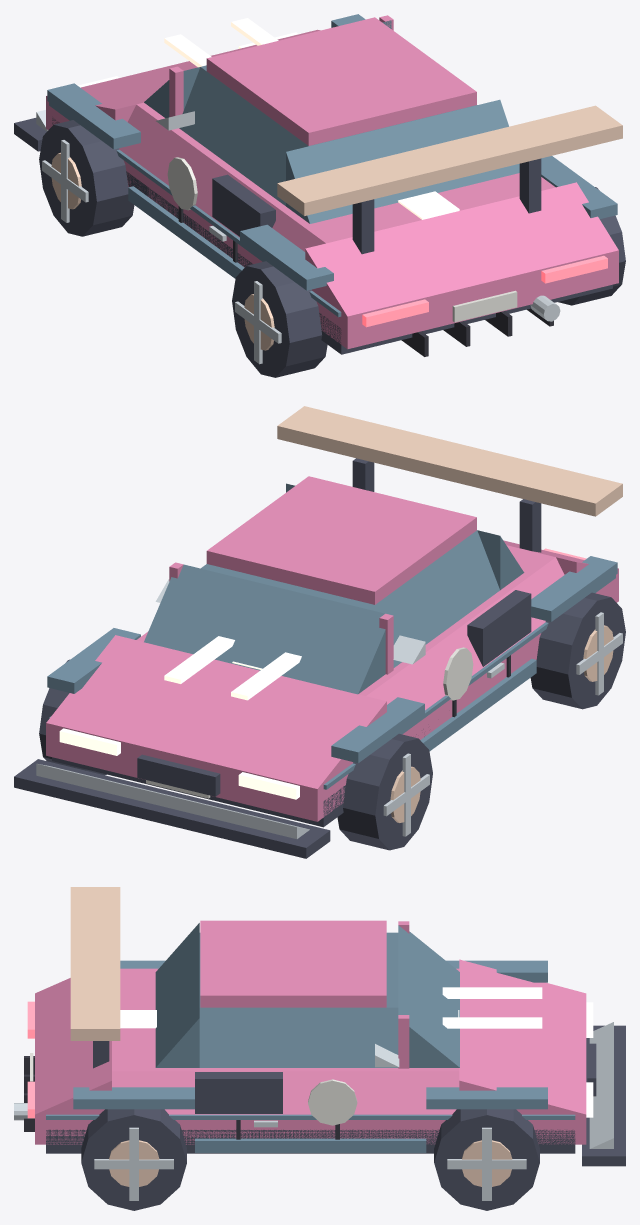
Rendered from oversteer_orbit.glb.
The picture shows the model from 3 angles, top to bottom: view 1: azimuth 30°, elevation 25°; view 2: azimuth 150°, elevation 25°; view 3: azimuth 270°, elevation 25°; orthographic projection. The views are drawn at different scales.
Visible parts, largest first — view 1: Tail.088, Roof.288, RearWing.051, Body.288, RearWindow.188, CabinSideL.085, Wheel_RL.248, Wheel_FL.248, ShoulderL.085, BodyUpper.085, Nose.085, Sill.284 (+26 smaller); view 2: Nose.085, Roof.288, Windshield.188, RearWing.051, Body.288, Splitter.055, CabinSideL.085, Wheel_FL.248, Wheel_RL.248, ShoulderL.085, Bumper.284, AirIntake-1.051 (+21 smaller); view 3: Roof.288, Nose.085, CabinSideR.085, RearWing.051, ShoulderR.085, Body.288, Windshield.188, Tail.088, Wheel_RR.248, Wheel_FR.248, RearWindow.188, BodyUpper.085 (+23 smaller).
Part boxes in pixels (left/top/right/bottom): Tail.088: left=305, top=182, right=618, bottom=316; Roof.288: left=206, top=17, right=476, bottom=145; RearWing.051: left=277, top=105, right=622, bottom=215; Body.288: left=46, top=96, right=618, bottom=349; RearWindow.188: left=286, top=99, right=519, bottom=223; CabinSideL.085: left=179, top=67, right=308, bottom=205; Wheel_RL.248: left=232, top=261, right=327, bottom=377; Wheel_FL.248: left=39, top=120, right=134, bottom=236; ShoulderL.085: left=119, top=105, right=325, bottom=251; BodyUpper.085: left=136, top=102, right=555, bottom=243; Nose.085: left=46, top=29, right=320, bottom=121; Sill.284: left=52, top=118, right=612, bottom=354; Nose.085: left=46, top=635, right=386, bottom=788; Roof.288: left=206, top=476, right=476, bottom=604; Windshield.188: left=144, top=564, right=385, bottom=694; RearWing.051: left=277, top=406, right=622, bottom=516; Body.288: left=46, top=569, right=618, bottom=821; Splitter.055: left=14, top=759, right=330, bottom=858; CabinSideL.085: left=369, top=530, right=499, bottom=667; Wheel_FL.248: left=337, top=733, right=432, bottom=850; Wheel_RL.248: left=530, top=592, right=625, bottom=709; ShoulderL.085: left=366, top=557, right=564, bottom=710; Bumper.284: left=36, top=763, right=309, bottom=838; AirIntake-1.051: left=467, top=590, right=531, bottom=666; Roof.288: left=200, top=920, right=386, bottom=1007; Nose.085: left=459, top=959, right=586, bottom=1114; CabinSideR.085: left=199, top=1007, right=398, bottom=1067; RearWing.051: left=70, top=887, right=120, bottom=1040; ShoulderR.085: left=112, top=1071, right=459, bottom=1114; Body.288: left=35, top=1114, right=586, bottom=1144; Windshield.188: left=398, top=925, right=459, bottom=1067; Tail.088: left=35, top=978, right=111, bottom=1114; Wheel_RR.248: left=81, top=1109, right=186, bottom=1210; Wheel_FR.248: left=434, top=1109, right=539, bottom=1210; RearWindow.188: left=155, top=923, right=199, bottom=1067; BodyUpper.085: left=112, top=968, right=459, bottom=1071.
Bounding box in the file's own units: 3.3 × 1.78 × 5.55.
